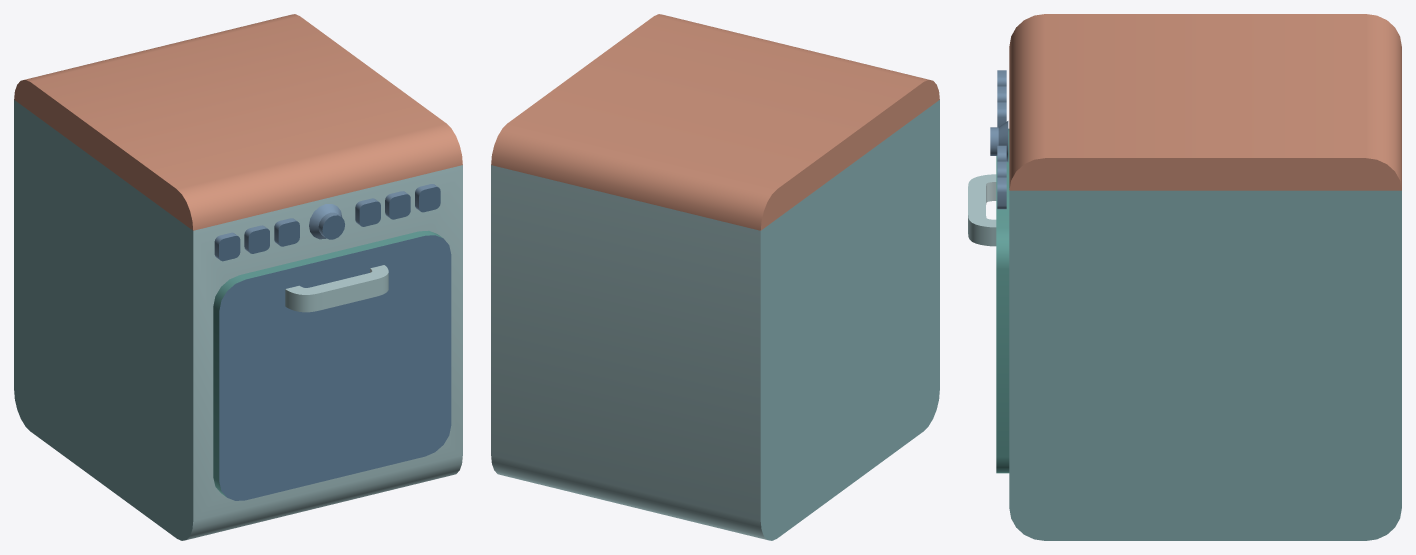
Rendered from Dishwasher.fbx.
The picture shows the model from 3 angles, left to right: view 1: azimuth 30°, elevation 25°; view 2: azimuth 150°, elevation 25°; view 3: azimuth 270°, elevation 25°; orthographic projection. The views are drawn at different scales.
Visible parts, largest first — view 1: Cube.016, Cylinder.026; view 2: Cube.016; view 3: Cube.016, Cylinder.026.
Part boxes in pixels (x1=…): Cube.016: x1=14, y1=14, x2=462, y2=540; Cylinder.026: x1=213, y1=230, x2=451, y2=500; Cube.016: x1=491, y1=14, x2=939, y2=540; Cube.016: x1=990, y1=14, x2=1401, y2=540; Cylinder.026: x1=968, y1=128, x2=1009, y2=473.
Size of the model in its own units: 1.43 by 1.78 by 1.82.
